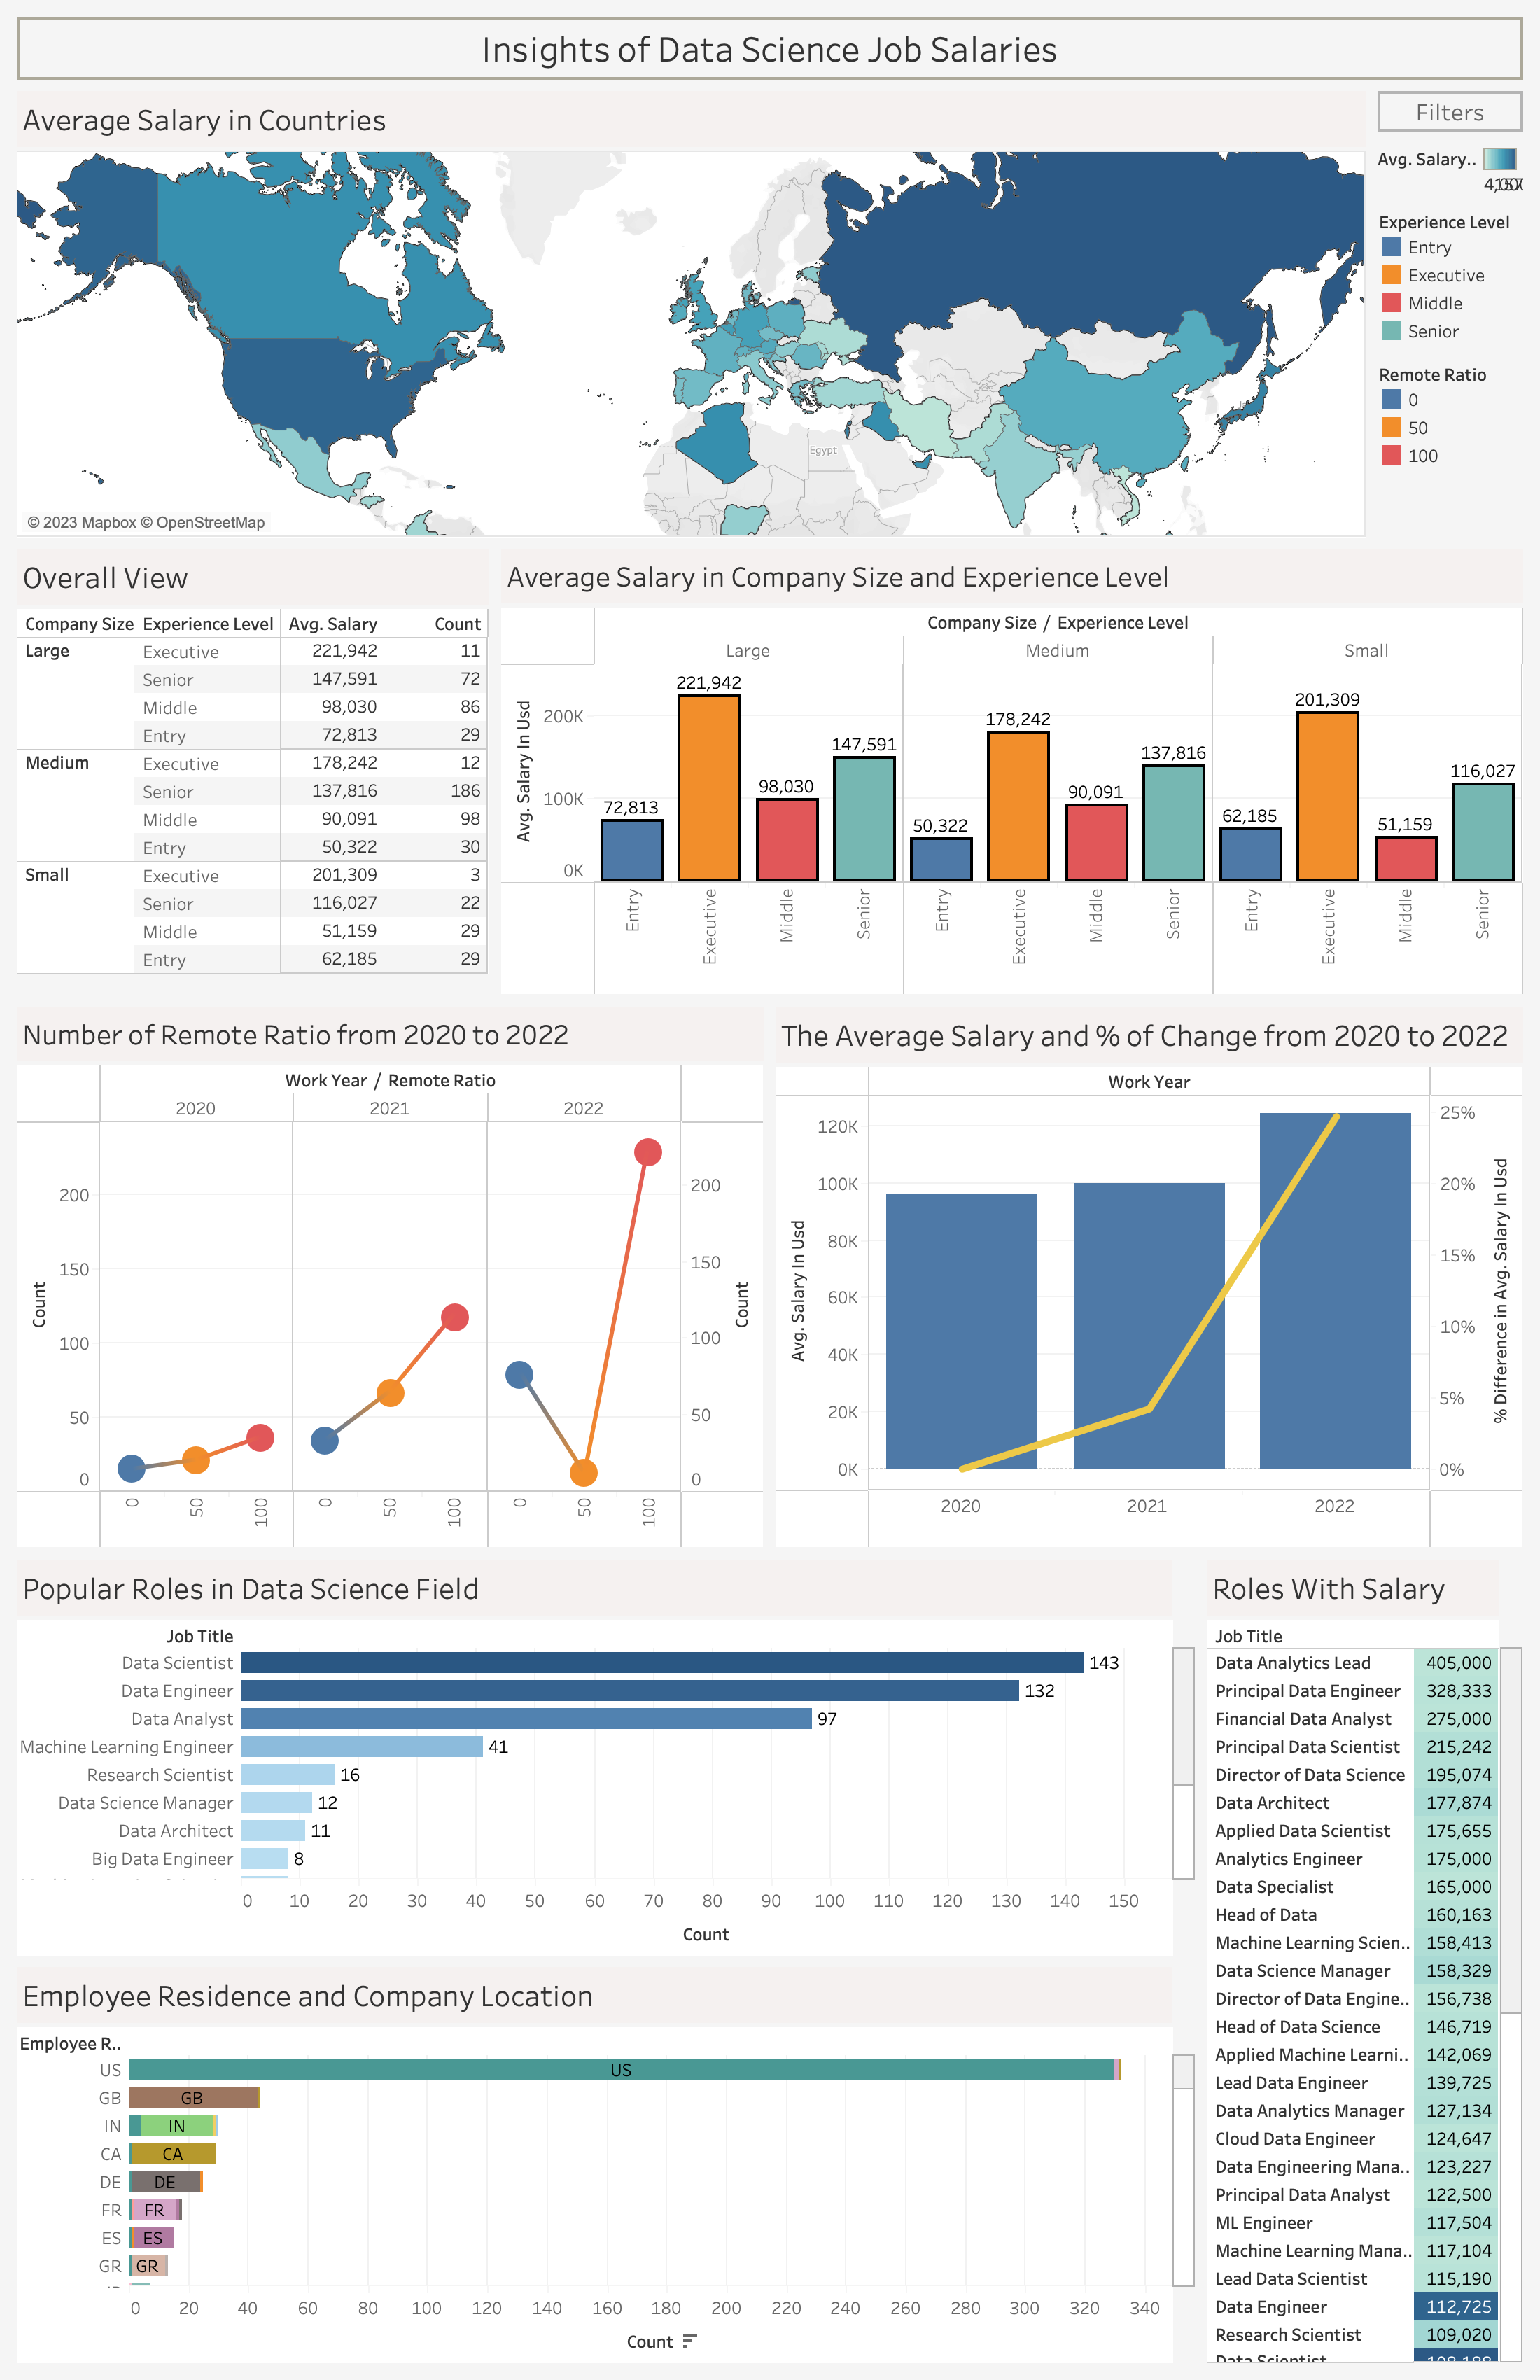

Layout of this report page (visuals, bound fields, positions):
{"tool":"tableau","page":{"name":"Dashboard 1","canvas":[1100,1700],"ordinal":0},"visuals":[{"type":"title","box":[8,8,1084,53]},{"type":"worksheet","title":"map sal","mark":"Automatic","box":[8,61,972,326.8]},{"type":"text","box":[980,61,112,36.9]},{"type":"legend","title":"map sal","param":"[federated.0e6s62k0gzwbq8154062q0zazg4b].[avg:salary_in_usd:qk]","box":[980,97.9,112,46.1]},{"type":"legend","title":"avg sal","param":"[federated.0e6s62k0gzwbq8154062q0zazg4b].[none:experience_level:nk]","box":[980,144,112,109]},{"type":"legend","title":"number ratio","param":"[federated.0e6s62k0gzwbq8154062q0zazg4b].[none:remote_ratio:ok]","box":[980,253,112,134.9]},{"type":"worksheet","title":"overall","mark":"Automatic","rows":["company_size","experience_level"],"box":[8,387.9,346,327.1]},{"type":"worksheet","title":"avg sal","mark":"Automatic","rows":["salary_in_usd"],"cols":["company_size","experience_level"],"box":[354,387.9,738,327.1]},{"type":"worksheet","title":"number ratio","mark":"Shape","rows":["ds_salaries.csv_6D03B8D422CC432294822A89DFE753DB","ds_salaries.csv_6D03B8D422CC432294822A89DFE753DB"],"cols":["work_year","remote_ratio"],"box":[8,715,542,395.5]},{"type":"worksheet","title":"sal change","mark":"Automatic","rows":["salary_in_usd","salary_in_usd"],"cols":["work_year"],"box":[550,715,542,395.5]},{"type":"worksheet","title":"popu role","mark":"Automatic","rows":["job_title"],"cols":["ds_salaries.csv_6D03B8D422CC432294822A89DFE753DB"],"box":[8,1110.5,850,290.8]},{"type":"worksheet","title":"role sal","mark":"Square","rows":["job_title"],"box":[858,1110.5,234,581.5]},{"type":"worksheet","title":"place","mark":"Automatic","rows":["employee_residence"],"cols":["ds_salaries.csv_6D03B8D422CC432294822A89DFE753DB"],"box":[8,1401.2,850,290.8]}]}

Visuals, with their boxes in screenshot pixels (x1, y1, x2, y2), scaled from the page's 1100x1700 canvas onto the 1540x2380 screenshot:
title: x1=11, y1=11, x2=1529, y2=85
"map sal" worksheet: x1=11, y1=85, x2=1372, y2=543
text: x1=1372, y1=85, x2=1529, y2=137
"map sal" legend: x1=1372, y1=137, x2=1529, y2=202
"avg sal" legend: x1=1372, y1=202, x2=1529, y2=354
"number ratio" legend: x1=1372, y1=354, x2=1529, y2=543
"overall" worksheet: x1=11, y1=543, x2=496, y2=1001
"avg sal" worksheet: x1=496, y1=543, x2=1529, y2=1001
"number ratio" worksheet (Shape marks): x1=11, y1=1001, x2=770, y2=1555
"sal change" worksheet: x1=770, y1=1001, x2=1529, y2=1555
"popu role" worksheet: x1=11, y1=1555, x2=1201, y2=1962
"role sal" worksheet (Square marks): x1=1201, y1=1555, x2=1529, y2=2369
"place" worksheet: x1=11, y1=1961, x2=1201, y2=2369
